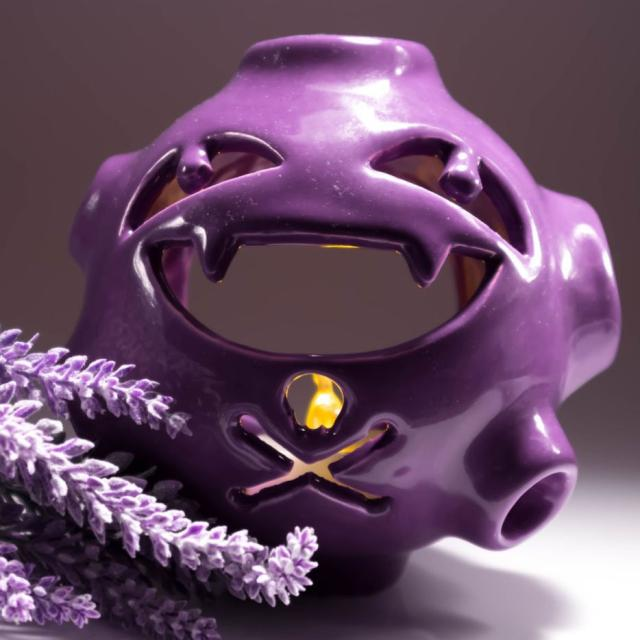Koffing: (66, 31, 598, 547)
